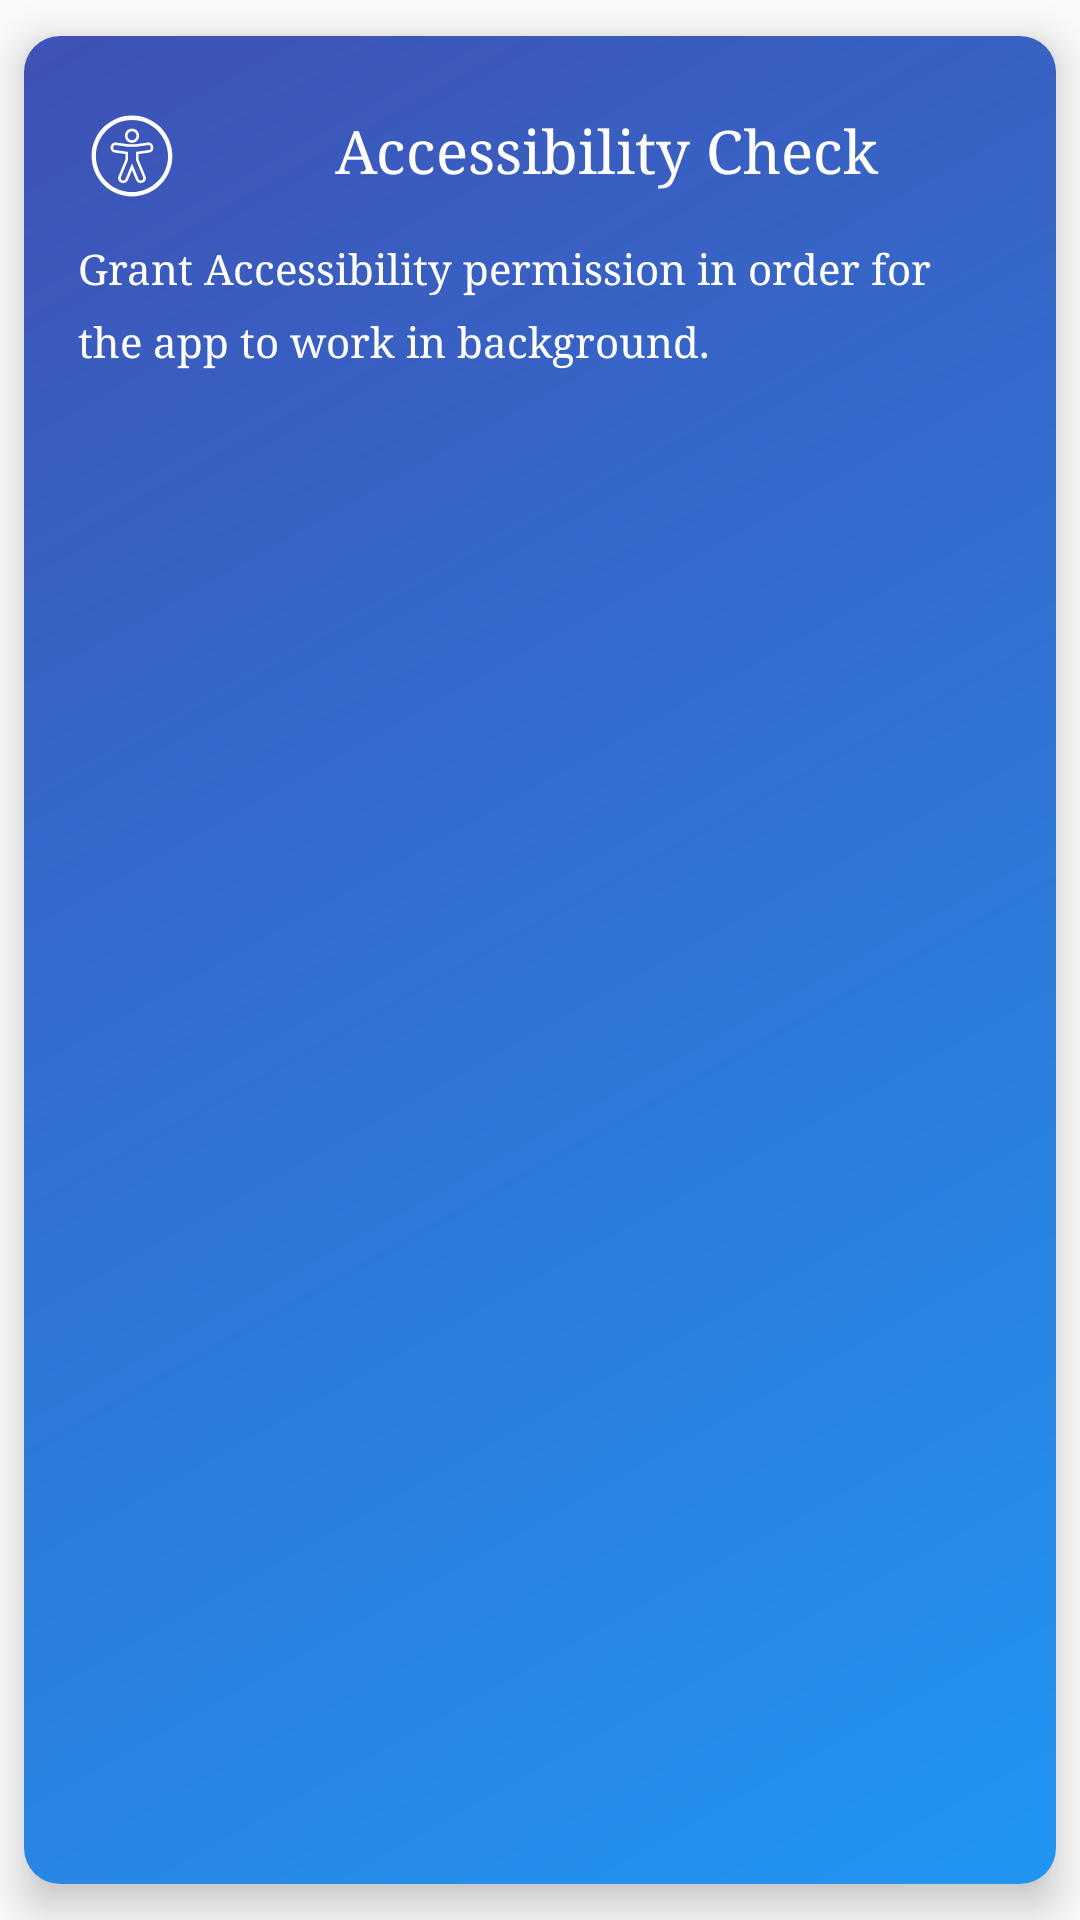

Icon click points for this 1080×1920 phone screenshot, format (x=x, y=y):
acc: (x=132, y=156)
